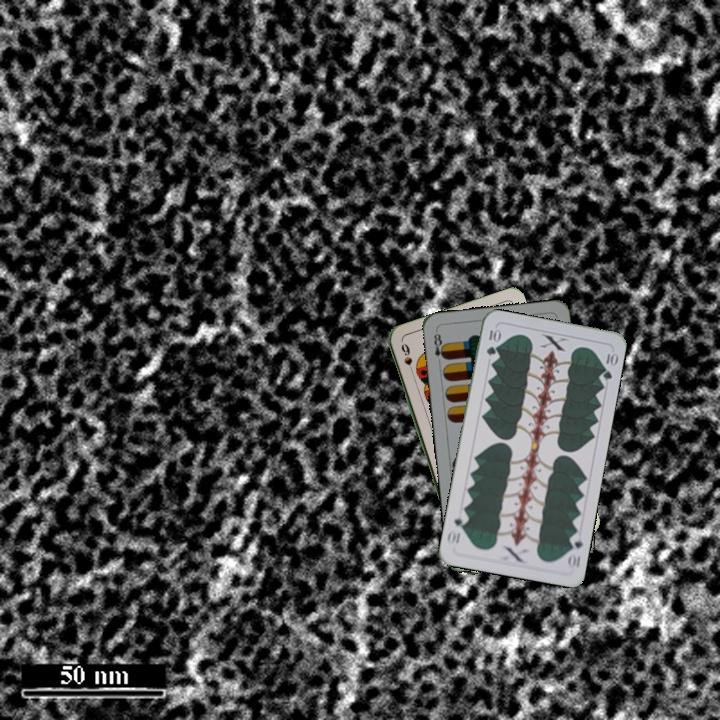E8: (430, 327, 448, 362)
G10: (564, 530, 585, 571), (482, 324, 502, 358)
S9: (397, 339, 417, 379)
